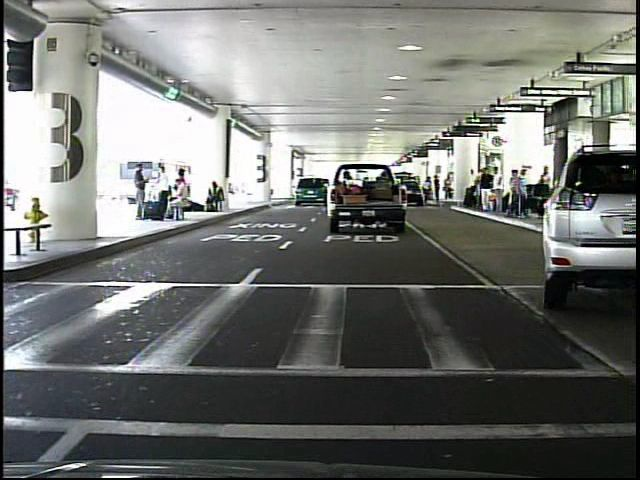person: (130, 161, 152, 224), (479, 167, 497, 217), (491, 165, 505, 216), (432, 172, 443, 204)
